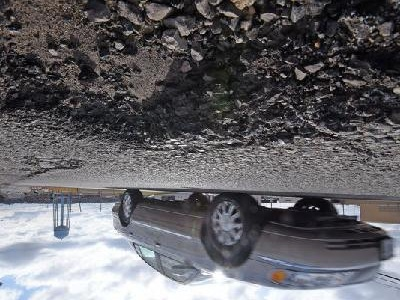pothole: (0, 0, 400, 154), (48, 157, 88, 171)
